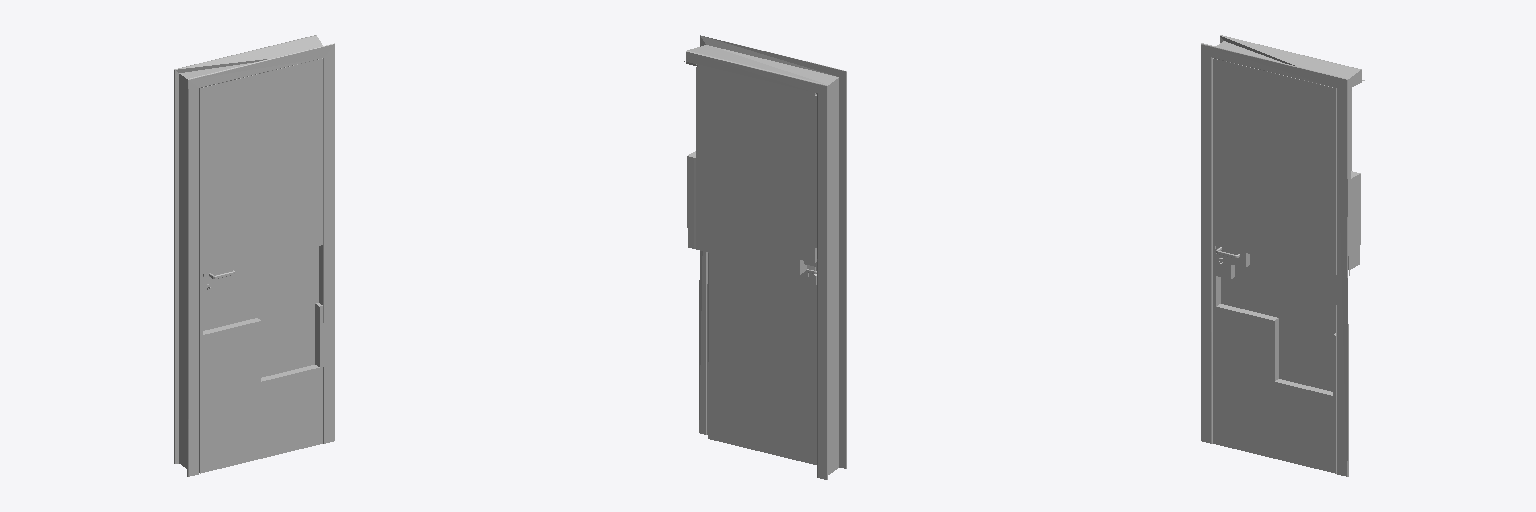
The model's file is porta.obj.
3 renders of one model, left to right at view 1: azimuth 30°, elevation 25°; view 2: azimuth 150°, elevation 25°; view 3: azimuth 330°, elevation 25°, orthographic.
Visible parts, largest first — view 1: obj_0; view 2: obj_0; view 3: obj_0.
Part boxes in pixels (x1,y1,x2,y2): obj_0: (174, 35, 334, 476); obj_0: (684, 35, 846, 479); obj_0: (1201, 35, 1364, 476).
Size of the model in its own units: 82.92 by 214 by 22.14.